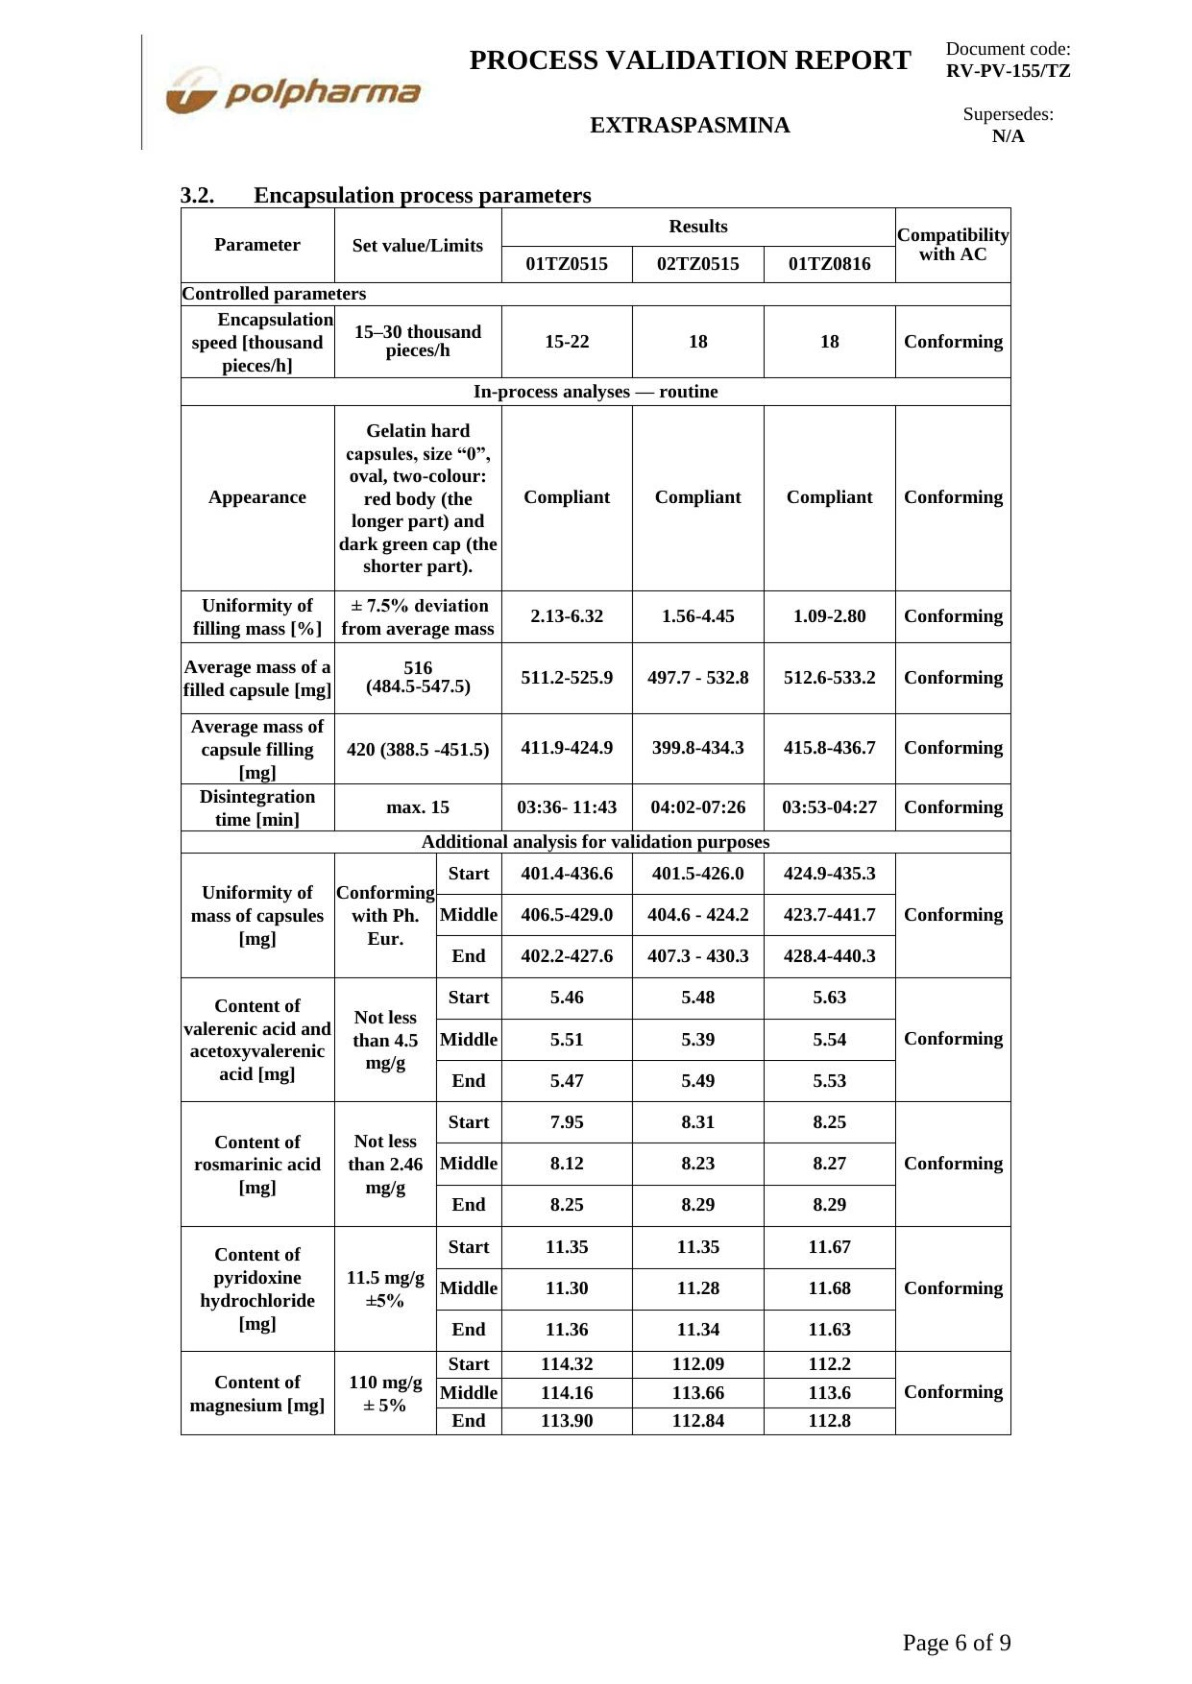merged_cells: (179, 206, 1011, 1436)
